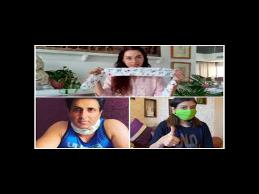mask_weared_incorrect: (70, 103, 100, 132), (125, 55, 144, 70)
with_mask: (178, 103, 197, 117)
